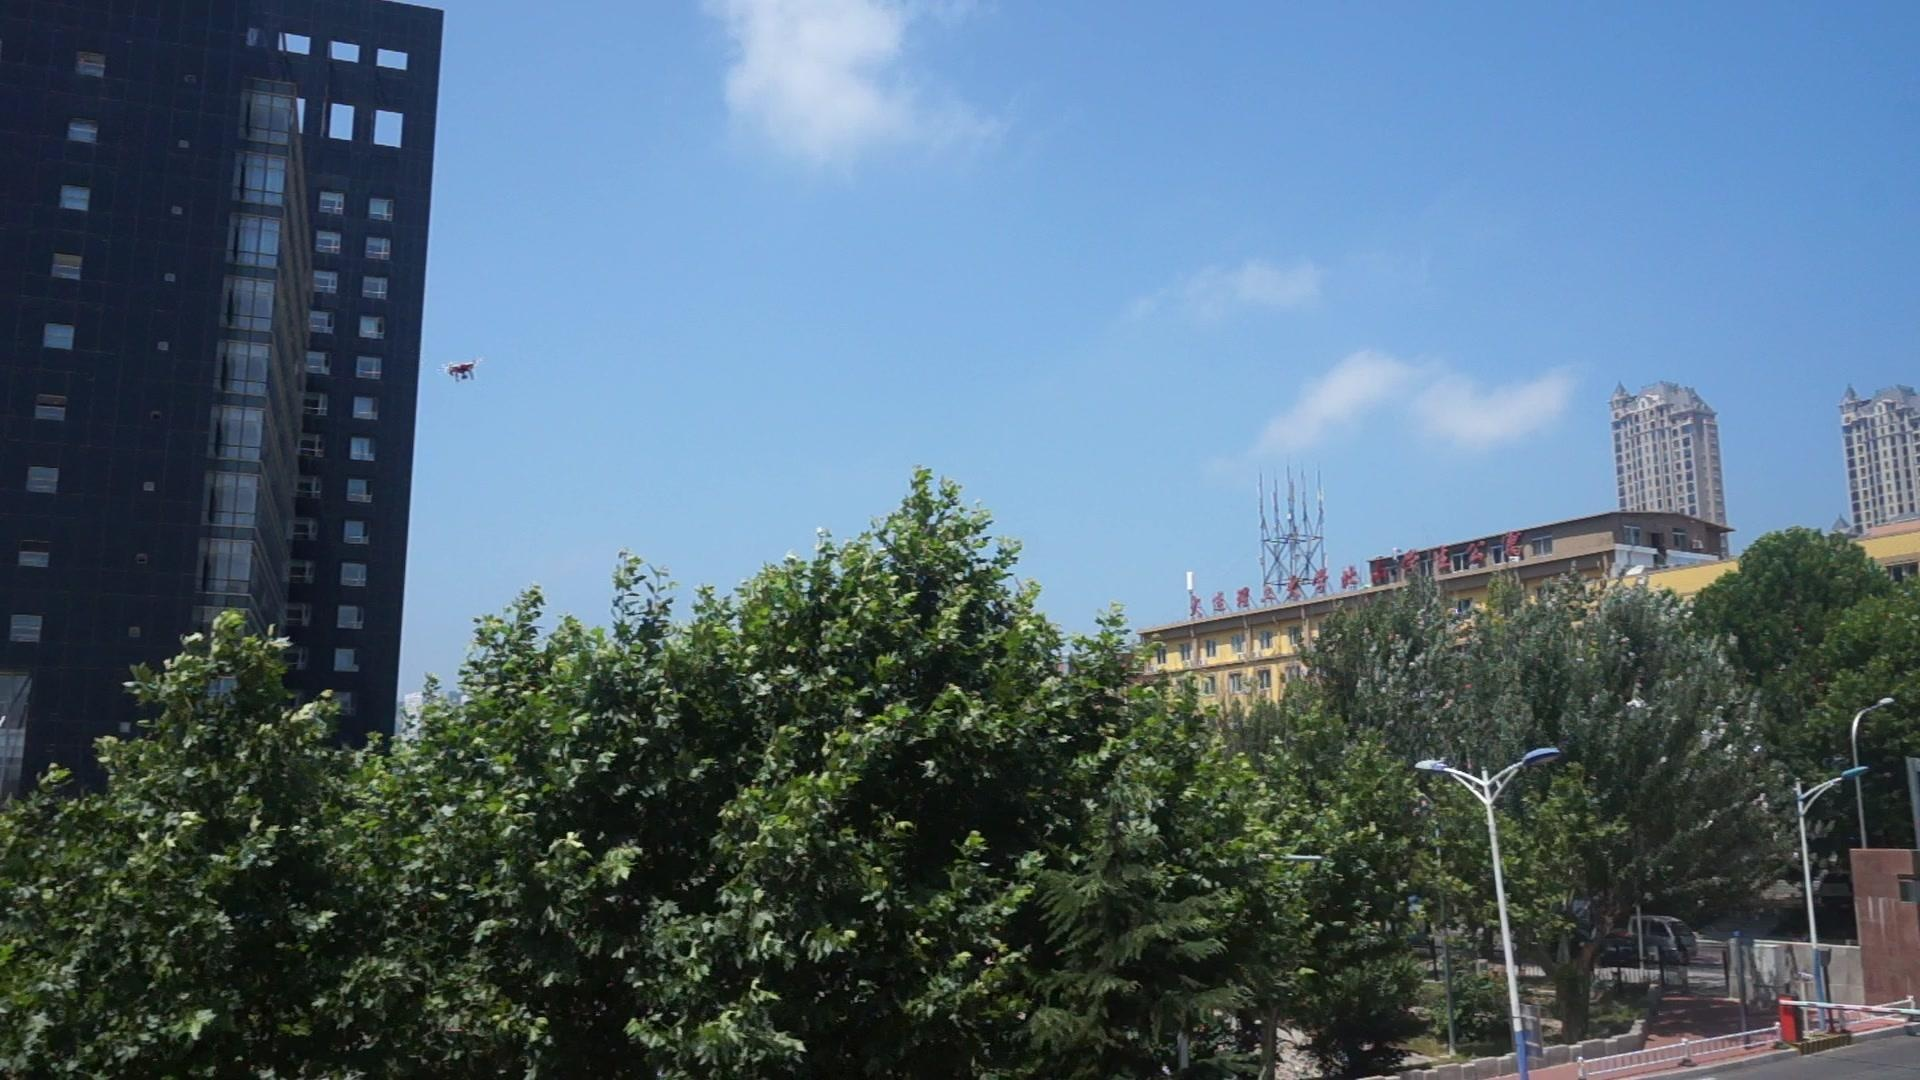UAV: (439, 359, 487, 384)
